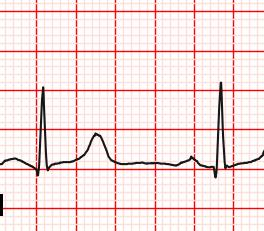LVH: (76, 130, 116, 170)
